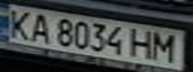0: (69, 19, 90, 51)
3: (87, 20, 109, 53)
4: (106, 24, 130, 56)
8: (51, 16, 75, 47)
A: (24, 11, 54, 44)
H: (127, 27, 157, 60)
K: (3, 7, 36, 40)
M: (151, 30, 181, 64)
